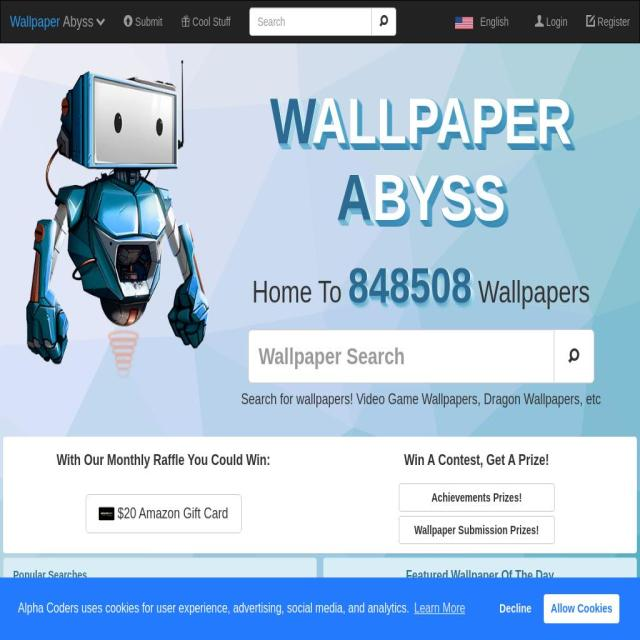button: (3, 592, 317, 630), (370, 594, 590, 640), (85, 494, 242, 534), (1, 1, 115, 42), (398, 483, 555, 512), (398, 516, 555, 544), (3, 628, 317, 640), (445, 1, 526, 42), (171, 1, 240, 42), (576, 1, 640, 42), (114, 1, 172, 42), (525, 1, 577, 42), (412, 596, 467, 622)
field: (248, 329, 554, 383), (249, 7, 372, 36)
heading: (347, 258, 472, 314), (228, 392, 614, 408), (472, 275, 590, 309), (252, 275, 349, 309)
image: (26, 60, 210, 380), (370, 594, 590, 640), (98, 503, 114, 525), (454, 16, 474, 29)
link: (414, 523, 538, 537), (432, 491, 522, 504)
text: (228, 74, 614, 168), (228, 151, 614, 245), (13, 450, 314, 471), (326, 450, 627, 471), (17, 601, 412, 616), (543, 594, 620, 624), (406, 568, 554, 582), (114, 504, 228, 522), (492, 594, 539, 624), (13, 567, 88, 583), (10, 13, 60, 30), (60, 13, 97, 30), (472, 15, 516, 28), (190, 15, 230, 28), (594, 15, 630, 28), (132, 15, 162, 28), (543, 15, 568, 28)
